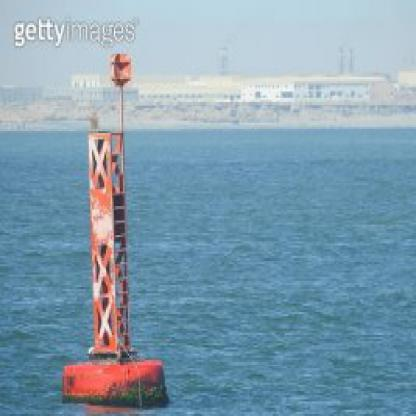buoy: (53, 44, 179, 414)
